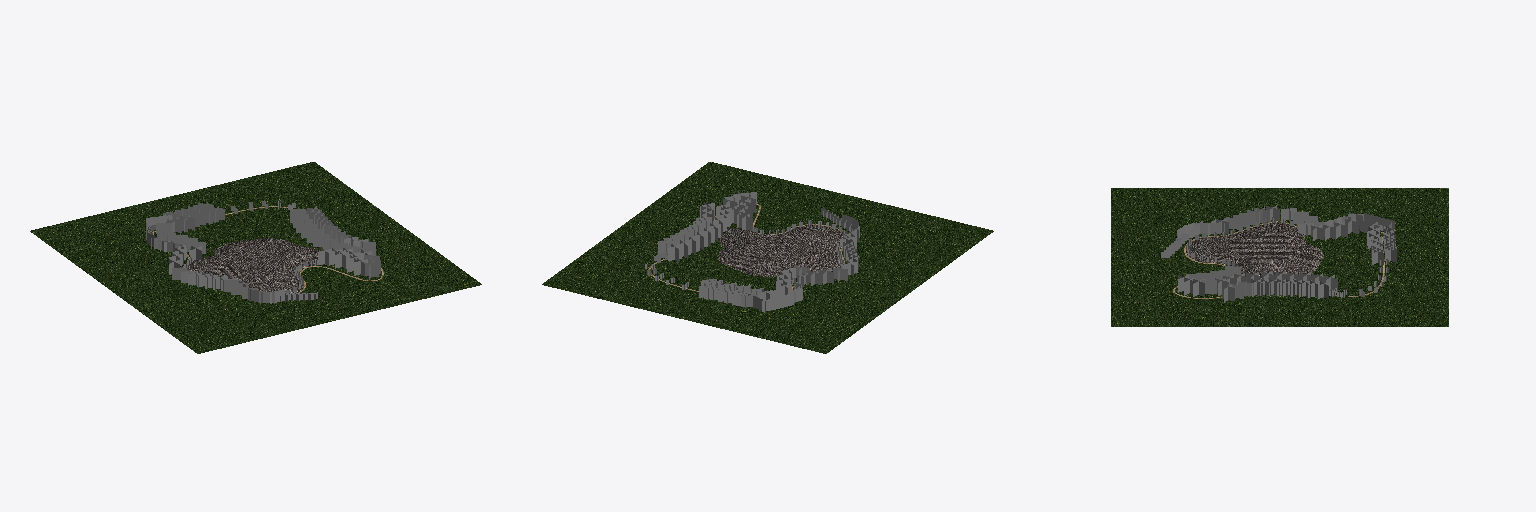
3 views of the same model, side by side, from view 1: azimuth 30°, elevation 25°; view 2: azimuth 150°, elevation 25°; view 3: azimuth 270°, elevation 25° (orthographic).
Visible parts, largest first — view 1: Plane001, Line004; view 2: Plane001, Line004; view 3: Plane001, Line004.
Boxes of the visible parts, x1=… form: Plane001: x1=30, y1=162, x2=481, y2=353; Line004: x1=188, y1=238, x2=322, y2=293; Plane001: x1=542, y1=162, x2=993, y2=353; Line004: x1=717, y1=225, x2=843, y2=276; Plane001: x1=1111, y1=188, x2=1448, y2=326; Line004: x1=1186, y1=222, x2=1323, y2=278.
Size of the model in its own units: 189 by 14.85 by 194.
Materials: 4 (3 with a texture image).